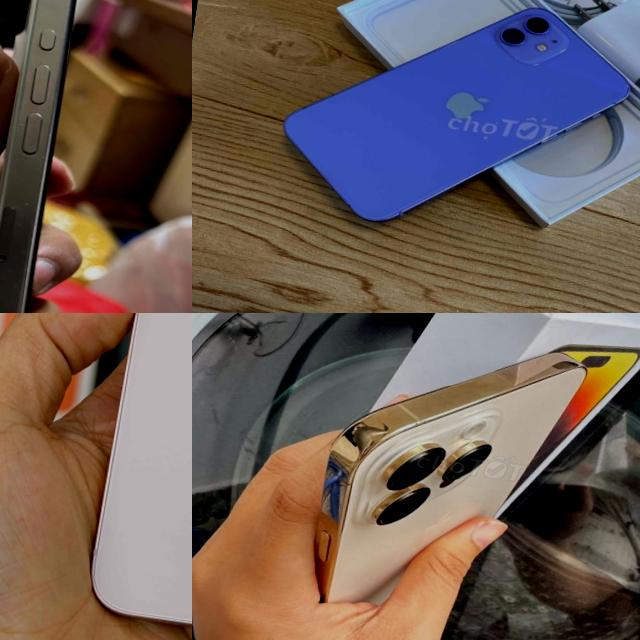gen_12_13: (264, 0, 640, 264), (88, 313, 192, 640)
gen_14: (315, 353, 586, 601)
gen_15: (0, 0, 140, 313)
scratch: (0, 195, 38, 293), (14, 116, 30, 128), (39, 151, 51, 161)
